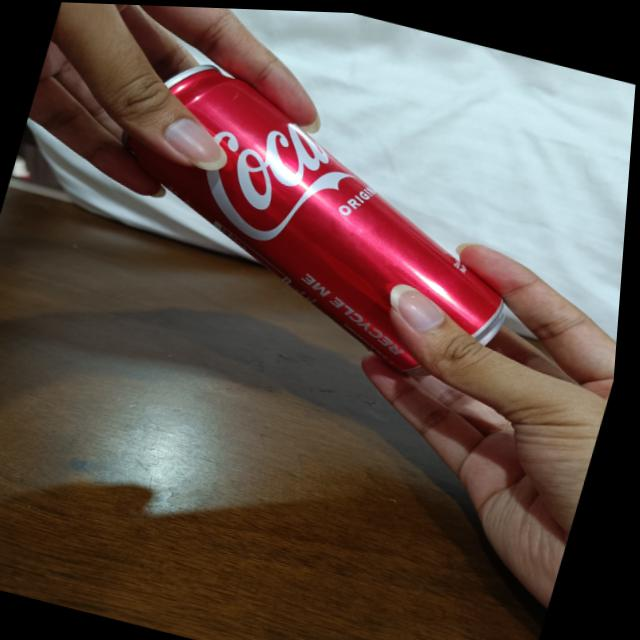coke: (89, 48, 554, 388)
